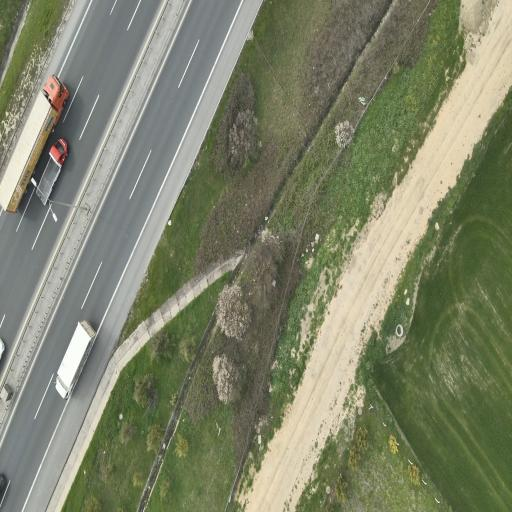car: (0, 75, 69, 211), (56, 320, 96, 398), (36, 138, 68, 204)
